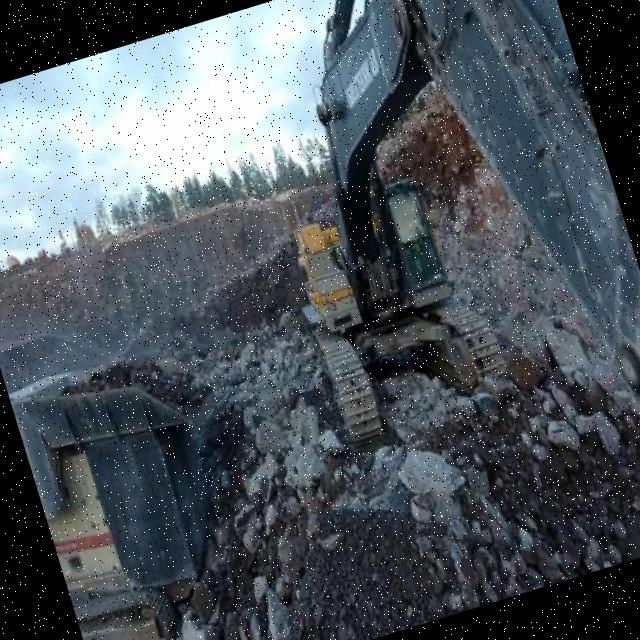Excavator: (207, 0, 640, 631)
